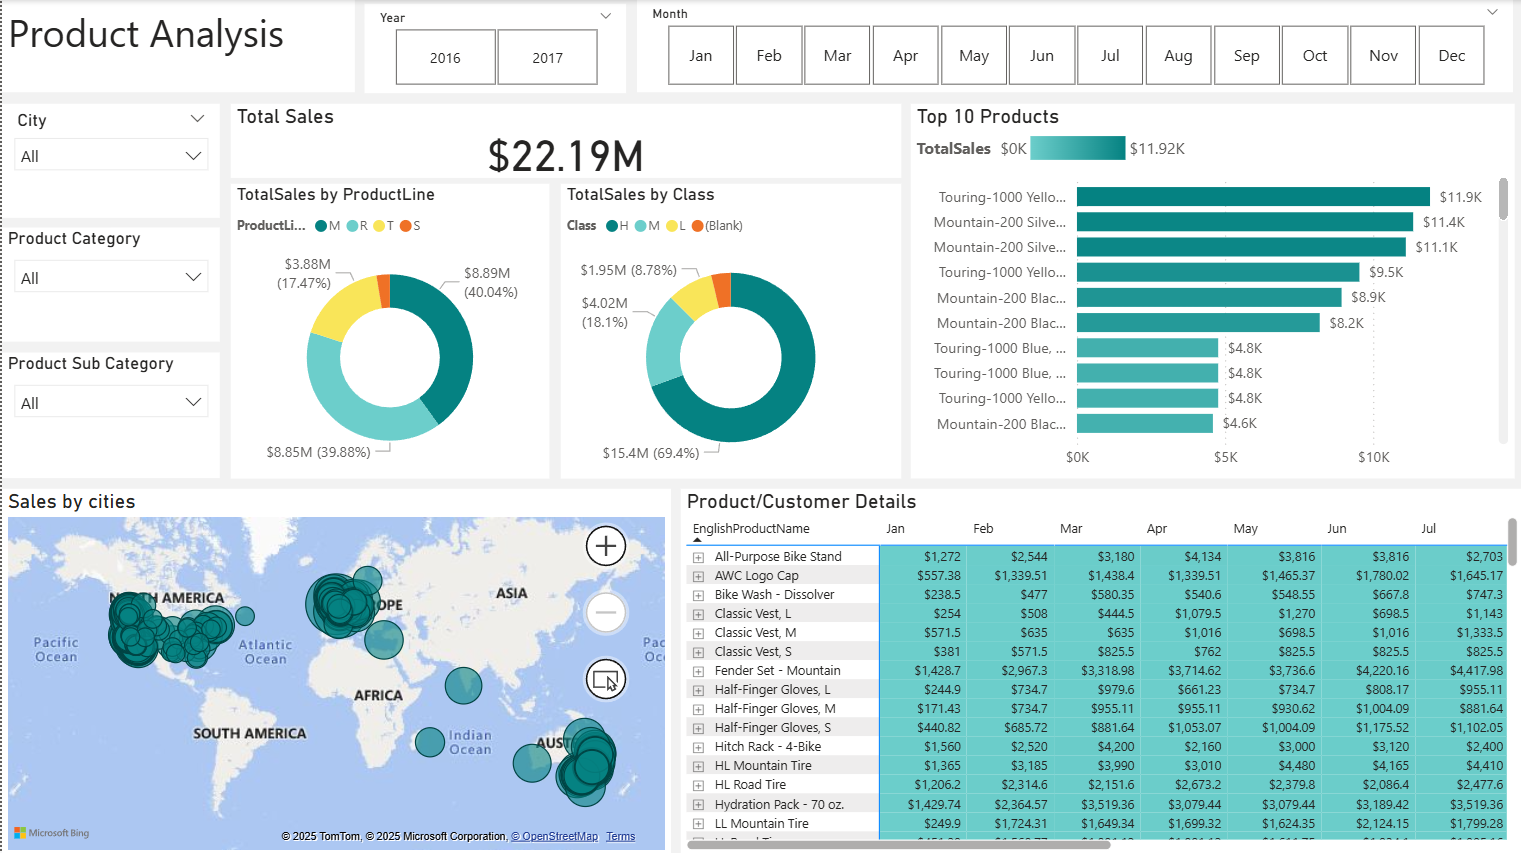

What the dashboard file says about the page in this screenshot:
{"tool":"powerbi","page":{"name":"Product Analysis","canvas":[1280,720],"ordinal":2},"visuals":[{"type":"textbox","box":[0,0,296.4,77.9],"z":0},{"type":"slicer","fields":{"Values":["Dim_Date.Year"]},"box":[305.4,2.7,220.3,75.2],"z":1000},{"type":"slicer","title":"Product Category","fields":{"Values":["Dim_Product.Category"]},"box":[0,191.6,183.6,95.8],"z":2000},{"type":"slicer","title":"Product Sub Category","fields":{"Values":["Dim_Product.Sub Category"]},"box":[0,296.4,183.6,105.7],"z":3000},{"type":"slicer","fields":{"Values":["Dim_Customer.City"]},"box":[0,86.9,183.6,95.8],"z":4000},{"type":"slicer","fields":{"Values":["Dim_Date.Month"]},"box":[534.6,0,737,77.9],"z":5000},{"type":"barChart","title":"Top 10 Products","fields":{"Y":["Fact_Internet_Sales.TotalSales"],"Category":["Dim_Product.EnglishProductName"]},"box":[763.9,86.9,507.8,315.2],"z":6000},{"type":"map","title":"Sales by cities","fields":{"Category":["Dim_Customer.City"],"Size":["Fact_Internet_Sales.TotalSales"]},"box":[0,410.9,562.7,309.1],"z":7000},{"type":"donutChart","fields":{"Y":["Fact_Internet_Sales.TotalSales"],"Category":["Dim_Product.Class"]},"box":[470,154.5,286.4,248.2],"z":8000},{"type":"pivotTable","title":"Product/Customer Details","fields":{"Rows":["Dim_Product.EnglishProductName","Dim_Customer.Full Name"],"Columns":["Dim_Date.Month"],"Values":["Fact_Internet_Sales.TotalSales"]},"box":[570.9,410.9,709.1,309.1],"z":9000},{"type":"donutChart","fields":{"Y":["Fact_Internet_Sales.TotalSales"],"Category":["Dim_Product.ProductLine"]},"box":[192.7,154.5,268.2,248.2],"z":10000},{"type":"card","title":"Total Sales","fields":{"Values":["Fact_Internet_Sales.TotalSales"]},"box":[192.7,87.3,563.6,62.7],"z":11000}]}

Visuals, with their boxes in screenshot pixels (x1, y1, x2, y2), scaled from the page's 1280x720 canvas onto the 1521x853 screenshot:
textbox: bbox(0, 0, 352, 92)
slicer - Dim_Date.Year: bbox(363, 3, 625, 92)
"Product Category" slicer: bbox(0, 227, 218, 340)
"Product Sub Category" slicer: bbox(0, 351, 218, 476)
slicer - Dim_Customer.City: bbox(0, 103, 218, 216)
slicer - Dim_Date.Month: bbox(635, 0, 1511, 92)
"Top 10 Products" barChart: bbox(908, 103, 1511, 476)
"Sales by cities" map: bbox(0, 487, 669, 852)
donutChart - Fact_Internet_Sales.TotalSales x Dim_Product.Class: bbox(558, 183, 899, 477)
"Product/Customer Details" pivotTable: bbox(678, 487, 1520, 852)
donutChart - Fact_Internet_Sales.TotalSales x Dim_Product.ProductLine: bbox(229, 183, 548, 477)
"Total Sales" card: bbox(229, 103, 899, 178)
